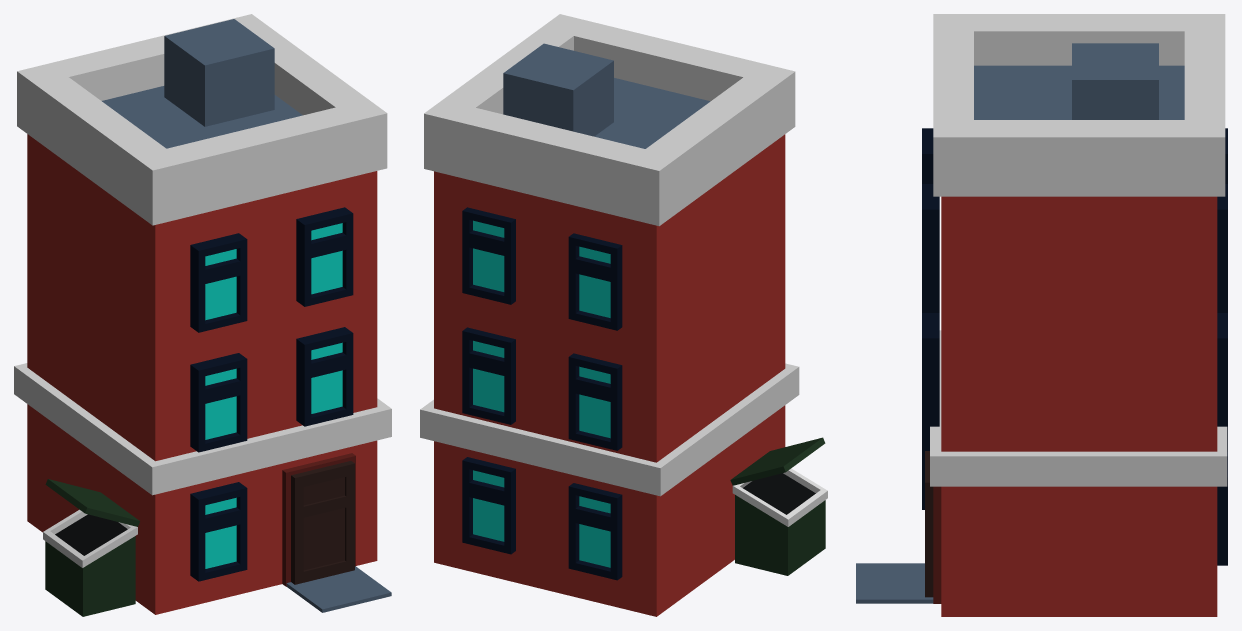
File: TownHouse_2.fbx
The picture shows the model from 3 angles, left to right: view 1: azimuth 30°, elevation 25°; view 2: azimuth 150°, elevation 25°; view 3: azimuth 270°, elevation 25°; orthographic projection. The views are drawn at different scales.
Visible parts, largest first — view 1: TownHouse_2; view 2: TownHouse_2; view 3: TownHouse_2.
Part boxes in pixels (x1,y1,x2,y2): TownHouse_2: (14,14,391,616); TownHouse_2: (420,14,827,616); TownHouse_2: (856,14,1227,616).
Bounding box in the file's own units: 26.28 × 41.58 × 27.23.
